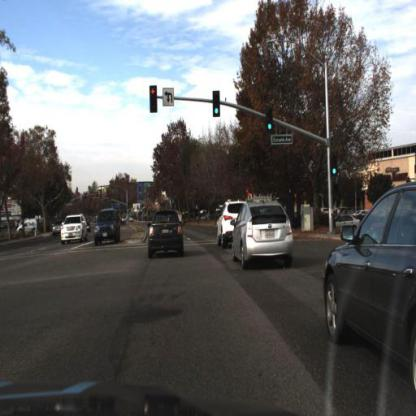car: (321, 157, 416, 396), (233, 190, 300, 278), (146, 207, 188, 279), (214, 191, 245, 264), (90, 206, 124, 251), (57, 212, 88, 247), (58, 212, 89, 247), (14, 219, 36, 237)
trafficLight-Green: (265, 110, 278, 141), (210, 93, 222, 124), (266, 107, 275, 136), (330, 159, 340, 180)
trafficLight-RedLeft: (147, 77, 158, 108)
